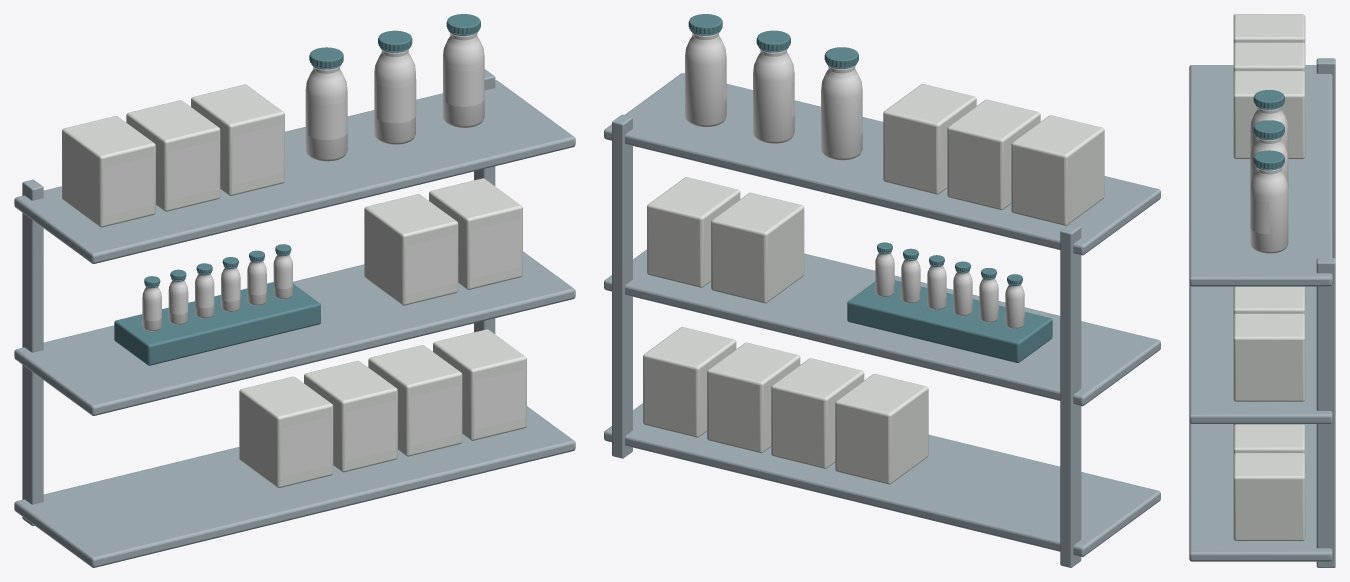
Rendered from CP_ReagentShelf.fbx.
3 views of the same model, side by side, from view 1: azimuth 30°, elevation 25°; view 2: azimuth 150°, elevation 25°; view 3: azimuth 270°, elevation 25° (orthographic). The views are drawn at different scales.
Visible parts, largest first — view 1: CP_ReagentShelf; view 2: CP_ReagentShelf; view 3: CP_ReagentShelf.
Part boxes in pixels (x1,y1,x2,y2): CP_ReagentShelf: (14,14,575,567); CP_ReagentShelf: (604,14,1160,567); CP_ReagentShelf: (1189,14,1335,567).
Size of the model in its own units: 120 by 101 by 34.75.
